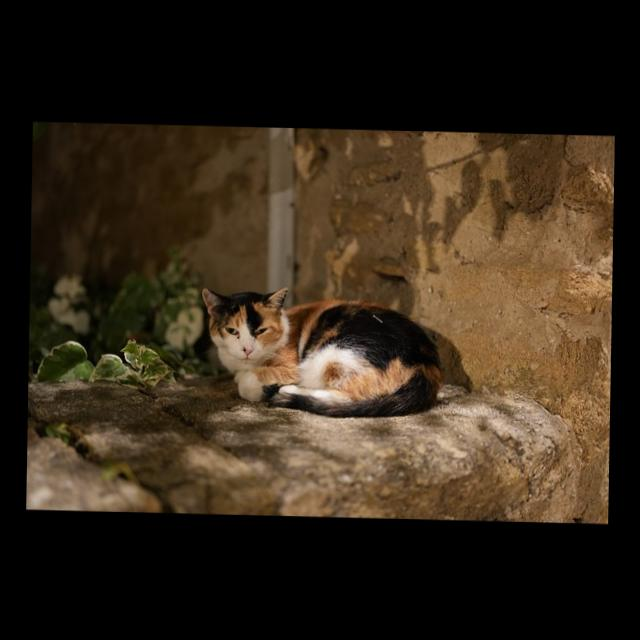animals: (202, 289, 471, 418)
